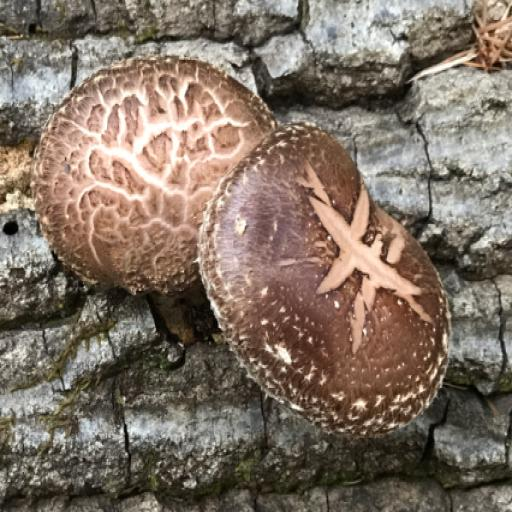Shiitake Mushroom: (0, 14, 511, 458)
